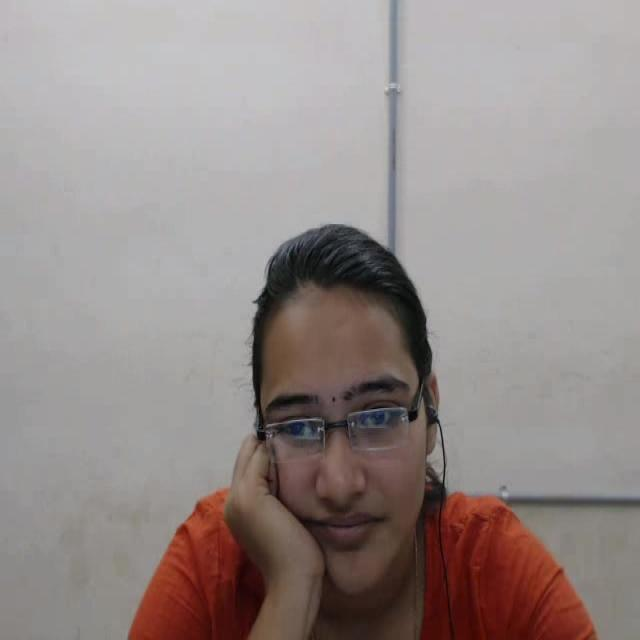Bored: (199, 196, 487, 640)
